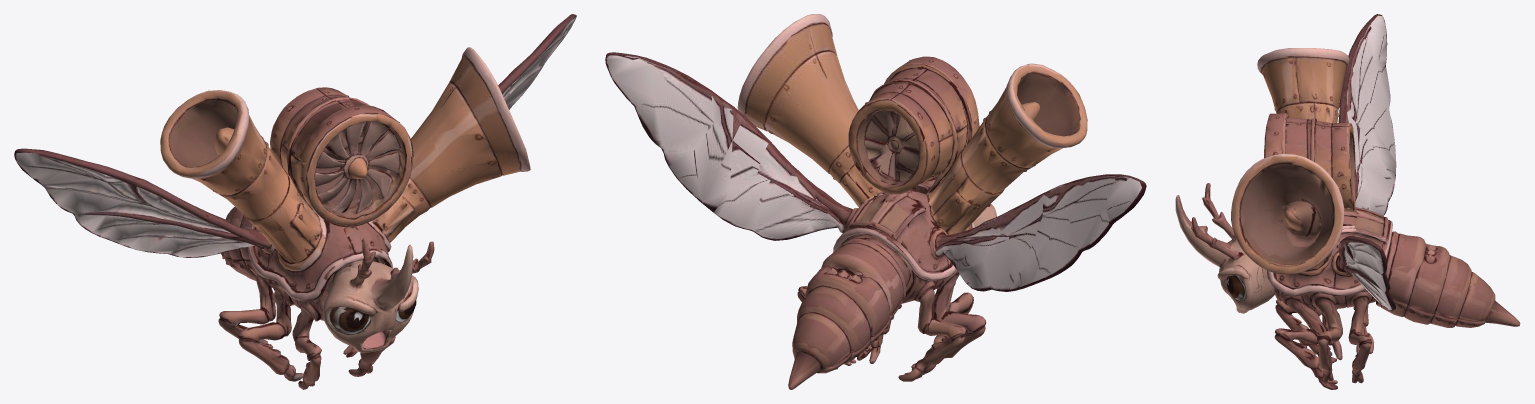
3 renders of one model, left to right at view 1: azimuth 30°, elevation 25°; view 2: azimuth 150°, elevation 25°; view 3: azimuth 270°, elevation 25°, orthographic. The views are drawn at different scales.
Visible parts, largest first — view 1: Mesh_0; view 2: Mesh_0; view 3: Mesh_0.
Part boxes in pixels (left/top/right/bottom): Mesh_0: left=14, top=14, right=576, bottom=389; Mesh_0: left=605, top=14, right=1146, bottom=389; Mesh_0: left=1175, top=14, right=1520, bottom=389.
Size of the model in its own units: 1.9 by 1.06 by 1.18.
Materials: 1 (1 with a texture image).
